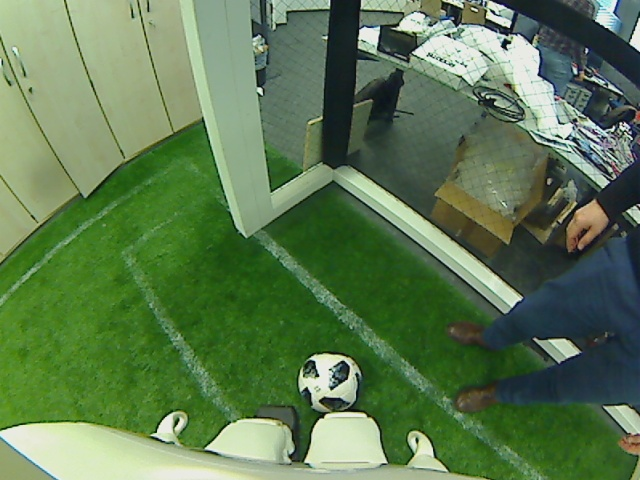ball: (296, 348, 363, 414)
